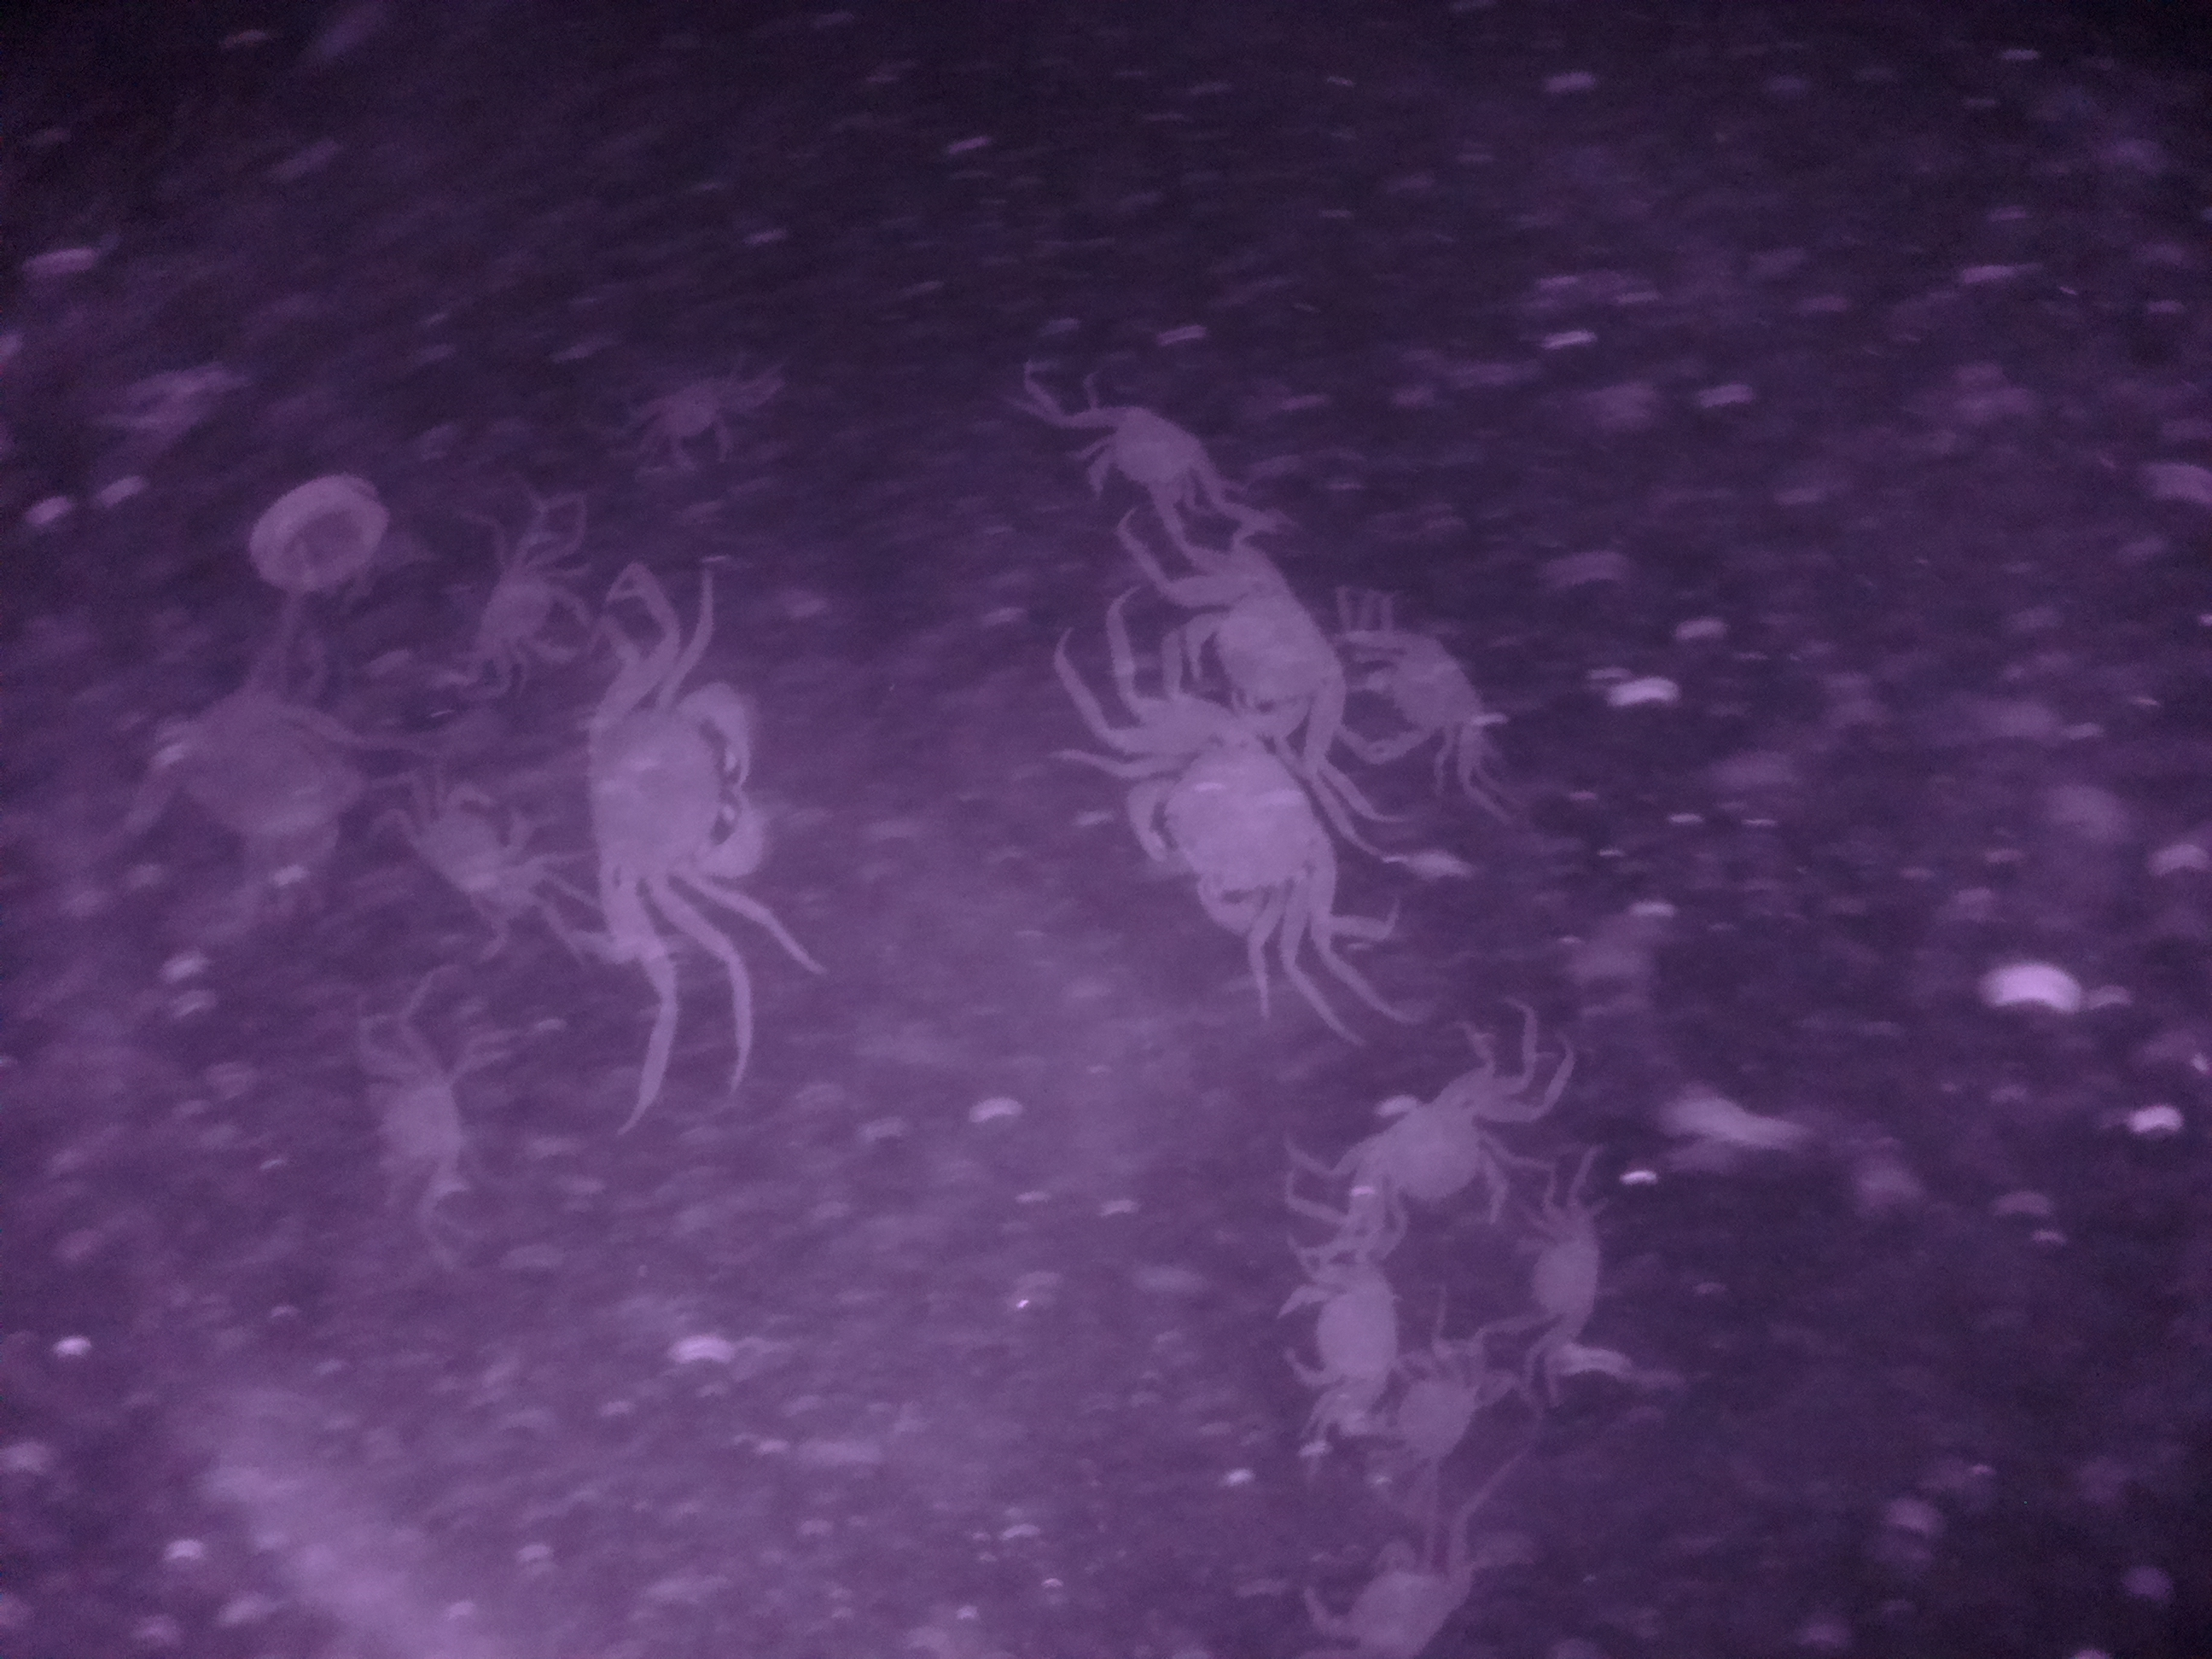Crab: (1113, 701, 1332, 971), (578, 647, 777, 931), (1294, 1053, 1559, 1241), (1345, 594, 1519, 796), (1266, 1249, 1409, 1427), (1501, 1176, 1637, 1361), (1057, 401, 1237, 530), (463, 525, 597, 685), (404, 765, 535, 915), (632, 347, 751, 481)
